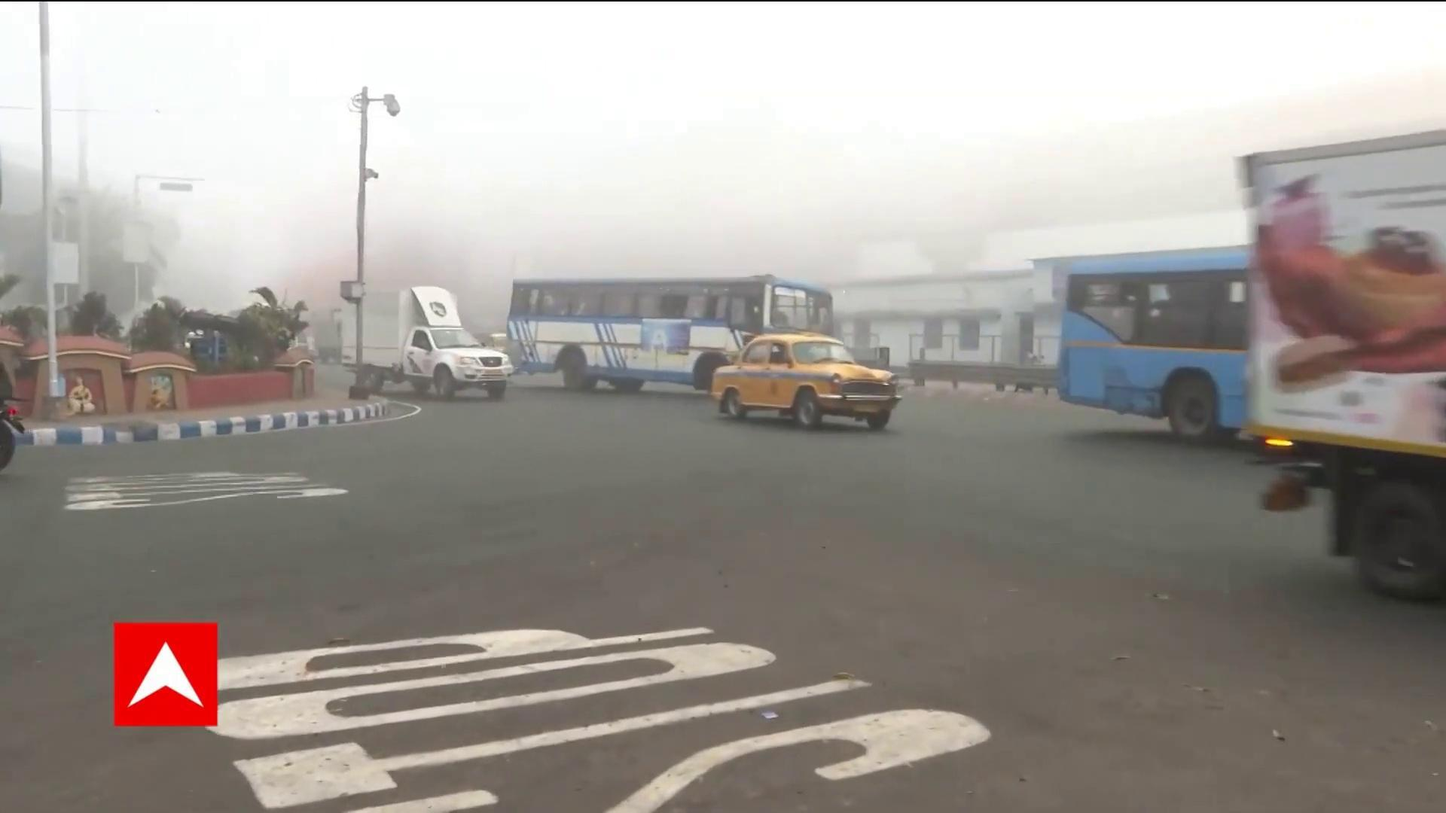Bus: (512, 271, 841, 402)
Car: (707, 330, 901, 428)
Truck: (366, 285, 516, 401)
